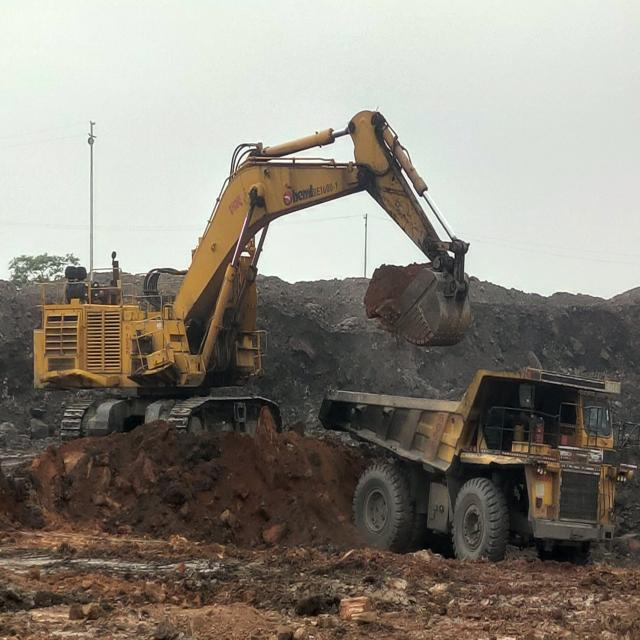dump_truck: (319, 371, 618, 567)
excavator: (33, 113, 473, 437)
